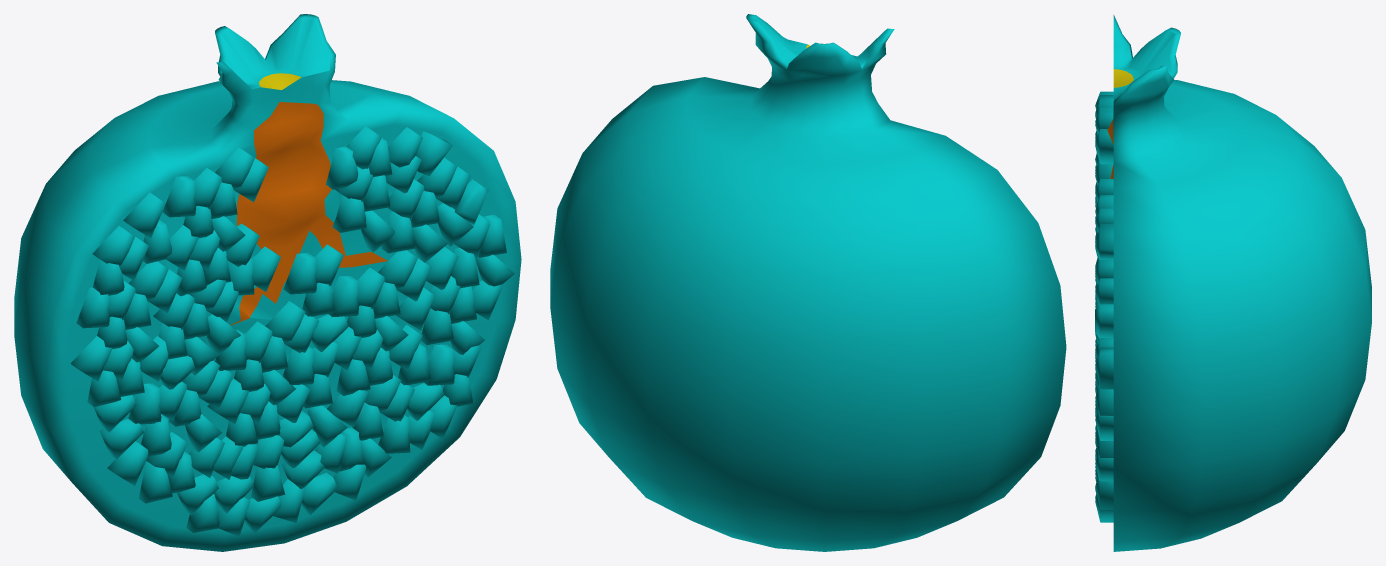
Rendered from Pomegranate_half.fbx.
3 renders of one model, left to right at view 1: azimuth 30°, elevation 25°; view 2: azimuth 150°, elevation 25°; view 3: azimuth 270°, elevation 25°, orthographic. The views are drawn at different scales.
Parts seen in each view (by area): view 1: Pomegranate_half; view 2: Pomegranate_half; view 3: Pomegranate_half.
Boxes of the visible parts, x1,y1,x2,y2 form: Pomegranate_half: (14,14,521,551); Pomegranate_half: (550,14,1066,551); Pomegranate_half: (1095,15,1371,551).
Bounding box in the file's own units: 155 × 156 × 82.14.
